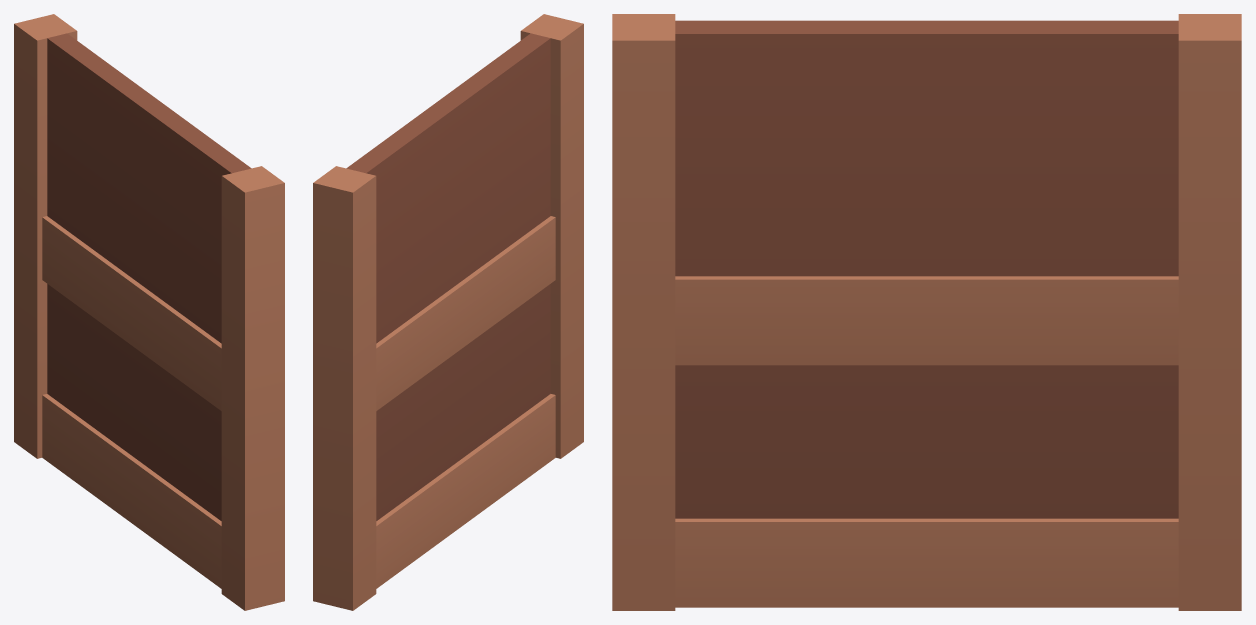
Rendered from wall-kn-wall-wood-detail-horizontal.glb.
3 views of the same model, side by side, from view 1: azimuth 30°, elevation 25°; view 2: azimuth 150°, elevation 25°; view 3: azimuth 270°, elevation 25° (orthographic). The views are drawn at different scales.
Parts seen in each view (by area): view 1: wall-wood-detail-horizontal; view 2: wall-wood-detail-horizontal; view 3: wall-wood-detail-horizontal.
Boxes of the visible parts, <box> form: wall-wood-detail-horizontal: <box>14,14,284,610</box>; wall-wood-detail-horizontal: <box>313,14,583,610</box>; wall-wood-detail-horizontal: <box>612,14,1241,610</box>.
Bounding box in the file's own units: 0.3 × 3 × 3.
1 material, 1 textured.
